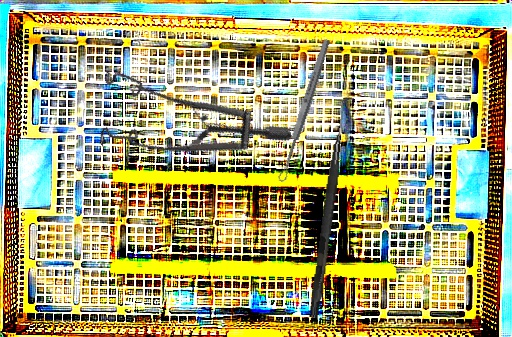Hook Surgical: (309, 99, 348, 319)
Speculum: (78, 20, 294, 199)
Surgical Spoon: (276, 38, 332, 183)
